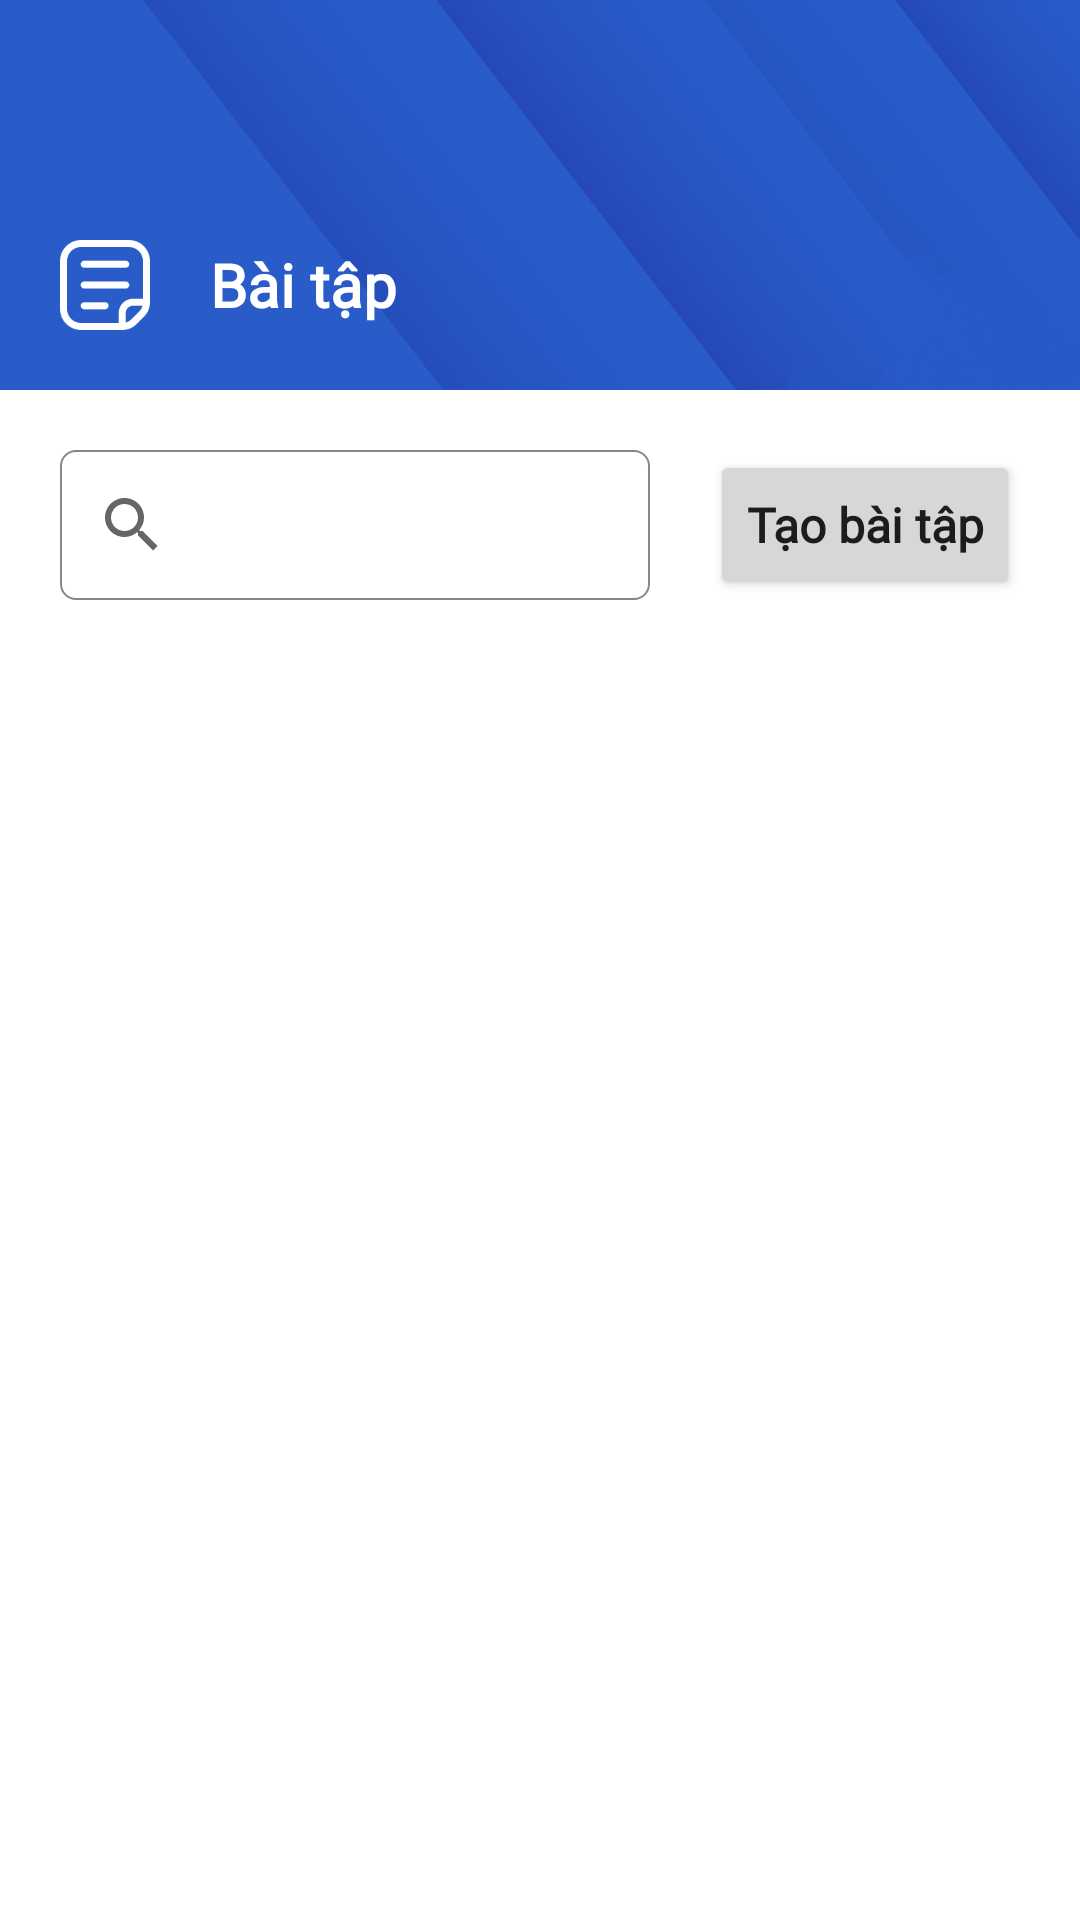

Where to tap for icons on this 1080 × 1920 app screen, as (x,y):
file: (105,285)
